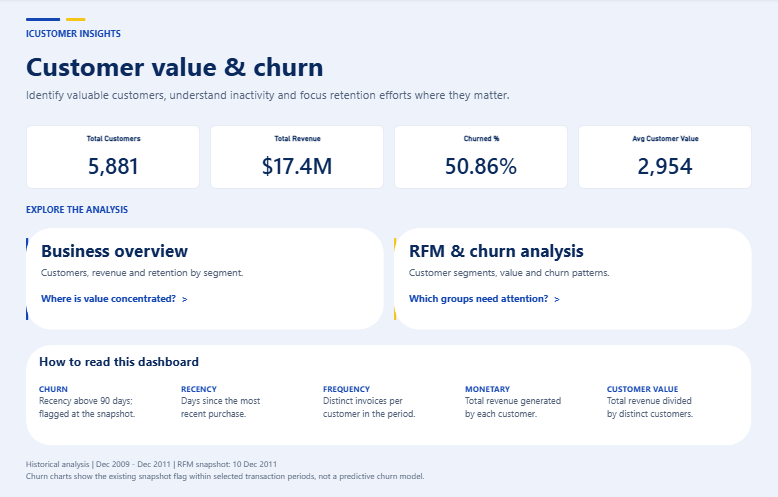

What the dashboard file says about the page in this screenshot:
{"tool":"powerbi","page":{"name":"Customer Analytics","canvas":[1280,816],"ordinal":0},"visuals":[{"type":"shape","box":[48,392,4,134],"z":0},{"type":"shape","box":[648,392,4,134],"z":1000},{"type":"shape","box":[48,376,584,166],"z":2000},{"type":"shape","box":[648,376,584,166],"z":3000},{"type":"shape","box":[48,566,1184,164],"z":4000},{"type":"shape","box":[48,32,56,5],"z":5000},{"type":"shape","box":[112,32,32,5],"z":6000},{"type":"card","title":"Total Customers","fields":{"Values":["Sheet1.Total Customers"]},"box":[48,208,284,104],"z":7000},{"type":"card","title":"Total Revenue","fields":{"Values":["Sheet1.Total Revenue"]},"box":[348,208,284,104],"z":8000},{"type":"card","title":"Churned %","fields":{"Values":["Sheet1.Churned %"]},"box":[648,208,284,104],"z":9000},{"type":"card","title":"Avg Customer Value","fields":{"Values":["Sheet1.Avg Customer Value"]},"box":[948,208,284,104],"z":10000},{"type":"textbox","box":[48,48,1100,28],"z":11000},{"type":"textbox","box":[48,82,1184,60],"z":12000},{"type":"textbox","box":[48,146,1184,44],"z":13000},{"type":"textbox","box":[48,334,1184,28],"z":14000},{"type":"textbox","box":[72,394,500,40],"z":15000},{"type":"textbox","box":[72,438,532,34],"z":16000},{"type":"textbox","box":[72,480,532,34],"z":17000},{"type":"textbox","box":[672,394,500,40],"z":18000},{"type":"textbox","box":[672,438,532,34],"z":19000},{"type":"textbox","box":[672,480,532,34],"z":20000},{"type":"textbox","box":[68,580,1120,32],"z":21000},{"type":"textbox","box":[68,628,216,88],"z":22000},{"type":"textbox","box":[300,628,216,88],"z":23000},{"type":"textbox","box":[532,628,216,88],"z":24000},{"type":"textbox","box":[764,628,216,88],"z":25000},{"type":"textbox","box":[996,628,216,88],"z":26000},{"type":"textbox","box":[48,750,1184,48],"z":27000},{"type":"actionButton","box":[48,376,584,166],"z":28000},{"type":"actionButton","box":[648,376,584,166],"z":29000}]}

Visuals, with their boxes in screenshot pixels (x1, y1, x2, y2), scaled from the page's 1280x816 canvas onto the 778x497 screenshot:
shape: (29,239,32,320)
shape: (394,239,396,320)
shape: (29,229,384,330)
shape: (394,229,749,330)
shape: (29,345,749,445)
shape: (29,19,63,23)
shape: (68,19,88,23)
"Total Customers" card: (29,127,202,190)
"Total Revenue" card: (212,127,384,190)
"Churned %" card: (394,127,566,190)
"Avg Customer Value" card: (576,127,749,190)
textbox: (29,29,698,46)
textbox: (29,50,749,86)
textbox: (29,89,749,116)
textbox: (29,203,749,220)
textbox: (44,240,348,264)
textbox: (44,267,367,287)
textbox: (44,292,367,313)
textbox: (408,240,712,264)
textbox: (408,267,732,287)
textbox: (408,292,732,313)
textbox: (41,353,722,373)
textbox: (41,382,173,436)
textbox: (182,382,314,436)
textbox: (323,382,455,436)
textbox: (464,382,596,436)
textbox: (605,382,737,436)
textbox: (29,457,749,486)
actionButton: (29,229,384,330)
actionButton: (394,229,749,330)
